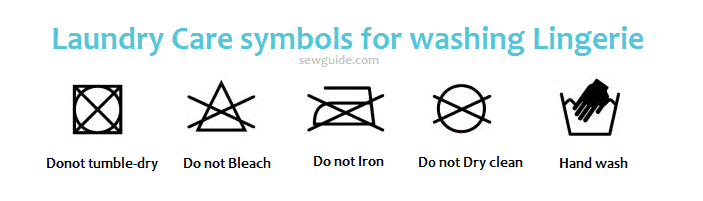do_not_bleach: (185, 76, 255, 134)
do_not_dry_clean: (430, 84, 493, 134)
do_not_iron: (308, 84, 385, 135)
